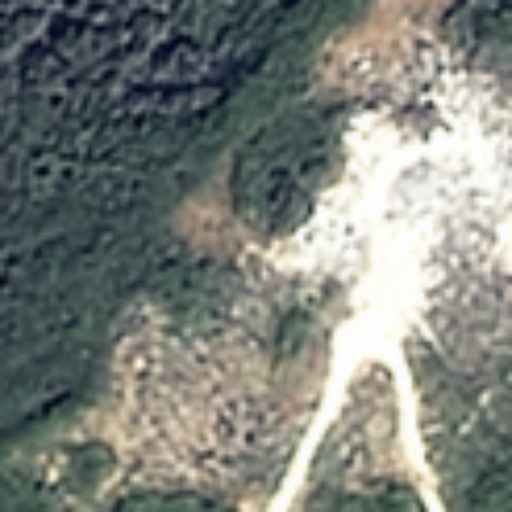landslide: (67, 58, 505, 508)
